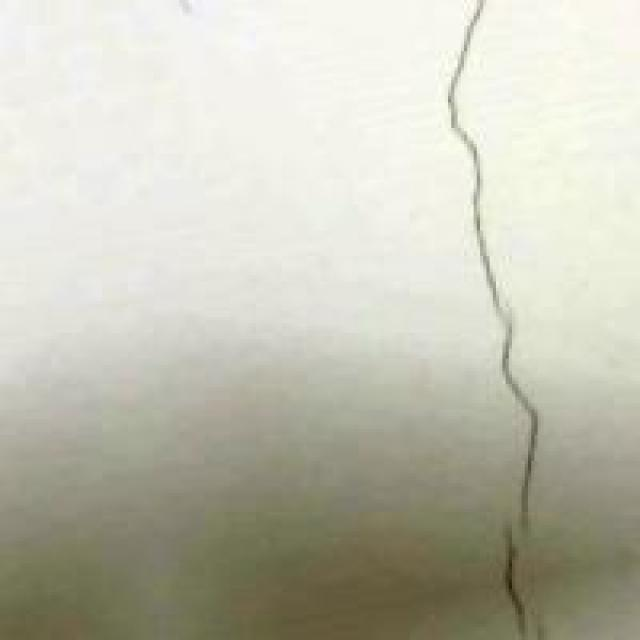Crack: (381, 3, 627, 637)
